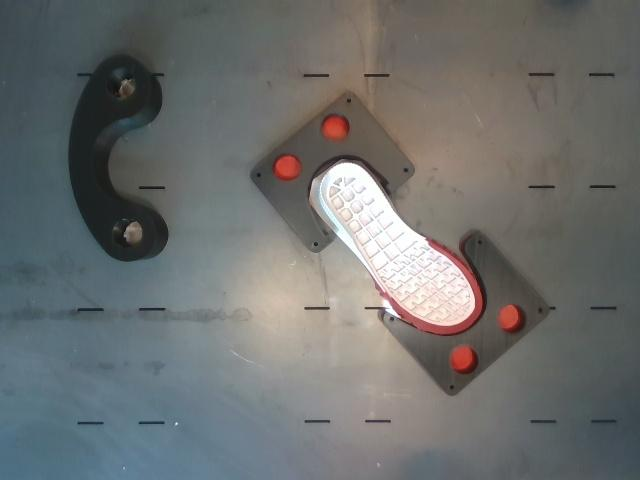shoes: (320, 162, 482, 335)
